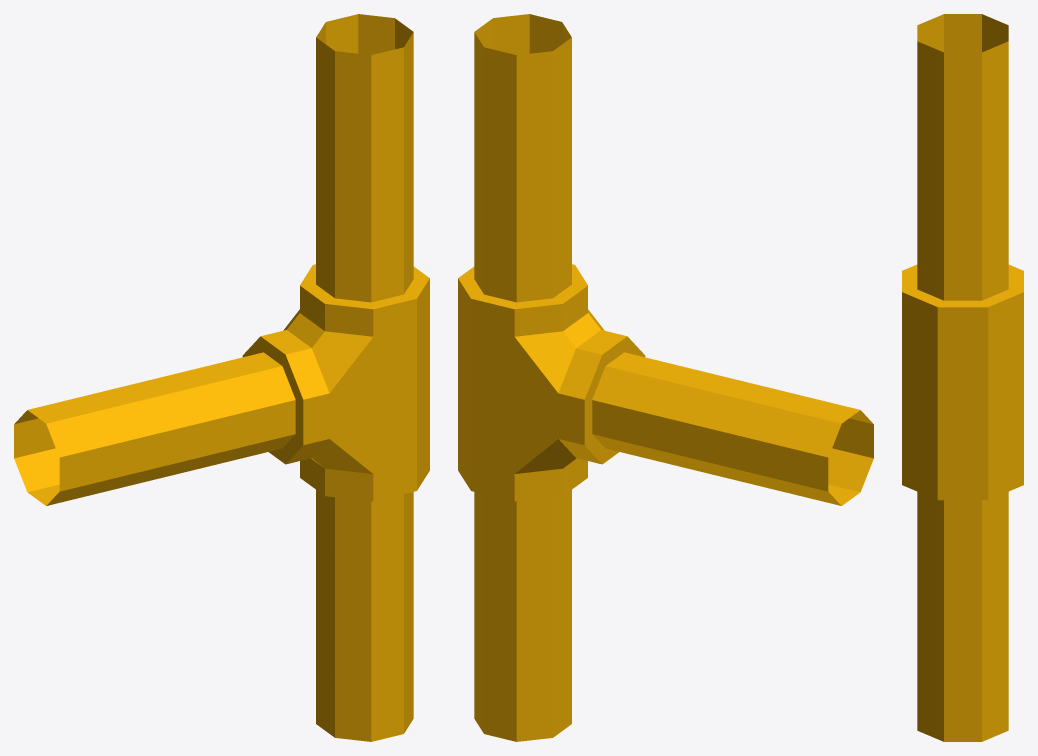
File: fpe_fluid_line_t.dae
3 views of the same model, side by side, from view 1: azimuth 30°, elevation 25°; view 2: azimuth 150°, elevation 25°; view 3: azimuth 270°, elevation 25° (orthographic).
Visible parts, largest first — view 1: fluid_line_t; view 2: fluid_line_t; view 3: fluid_line_t.
Boxes of the visible parts, left/top/right/bottom form: fluid_line_t: left=14, top=14, right=429, bottom=741; fluid_line_t: left=458, top=14, right=873, bottom=741; fluid_line_t: left=902, top=14, right=1023, bottom=741.
Bounding box in the file's own units: 0.145 × 0.04 × 0.25.
